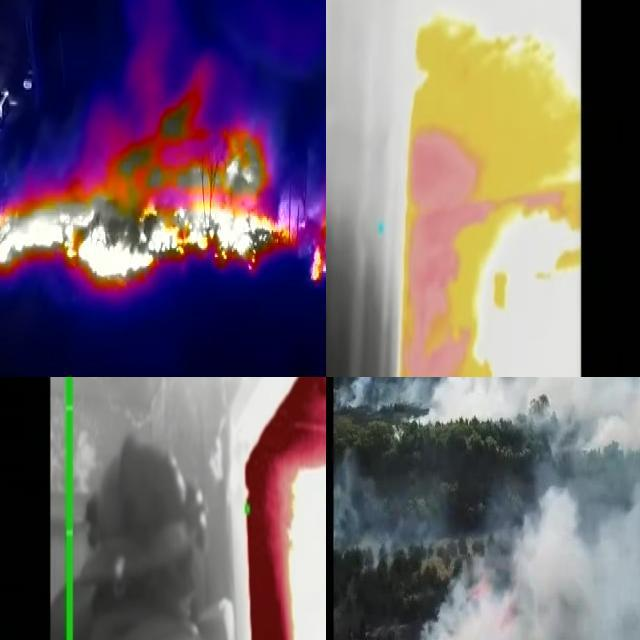fire: (1, 118, 327, 295), (396, 18, 484, 378), (243, 378, 327, 640)
